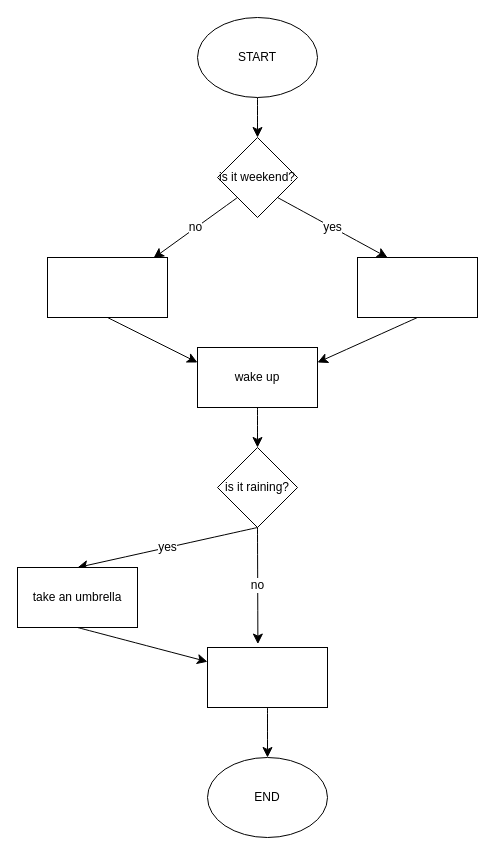
Some shapes in this 495 by 855 pixel diagram are drawn without their labels. Each missing label, with the centre of its shape:
"Alarm does not ring" goes at point 417,287.
"Alarm rings" goes at point 107,287.
"leave the house" goes at point 267,677.
